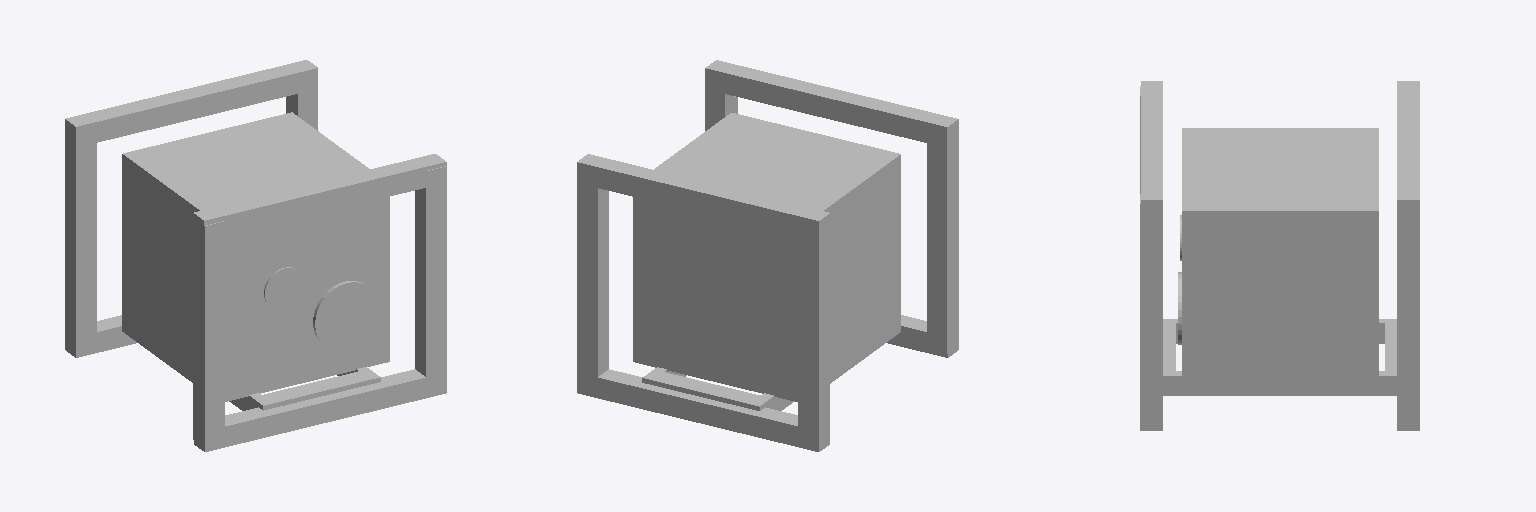
The model's file is indrustial_oxygenerator.obj.
The picture shows the model from 3 angles: view 1: azimuth 30°, elevation 25°; view 2: azimuth 150°, elevation 25°; view 3: azimuth 270°, elevation 25°; orthographic projection.
Visible parts, largest first — view 1: Cube_Cube.001; view 2: Cube_Cube.001; view 3: Cube_Cube.001.
Part boxes in pixels (x1,y1,x2,y2): Cube_Cube.001: (65,60,446,451); Cube_Cube.001: (577,60,958,451); Cube_Cube.001: (1140,81,1419,430).
Bounding box in the file's own units: 1.94 × 1.77 × 1.94.